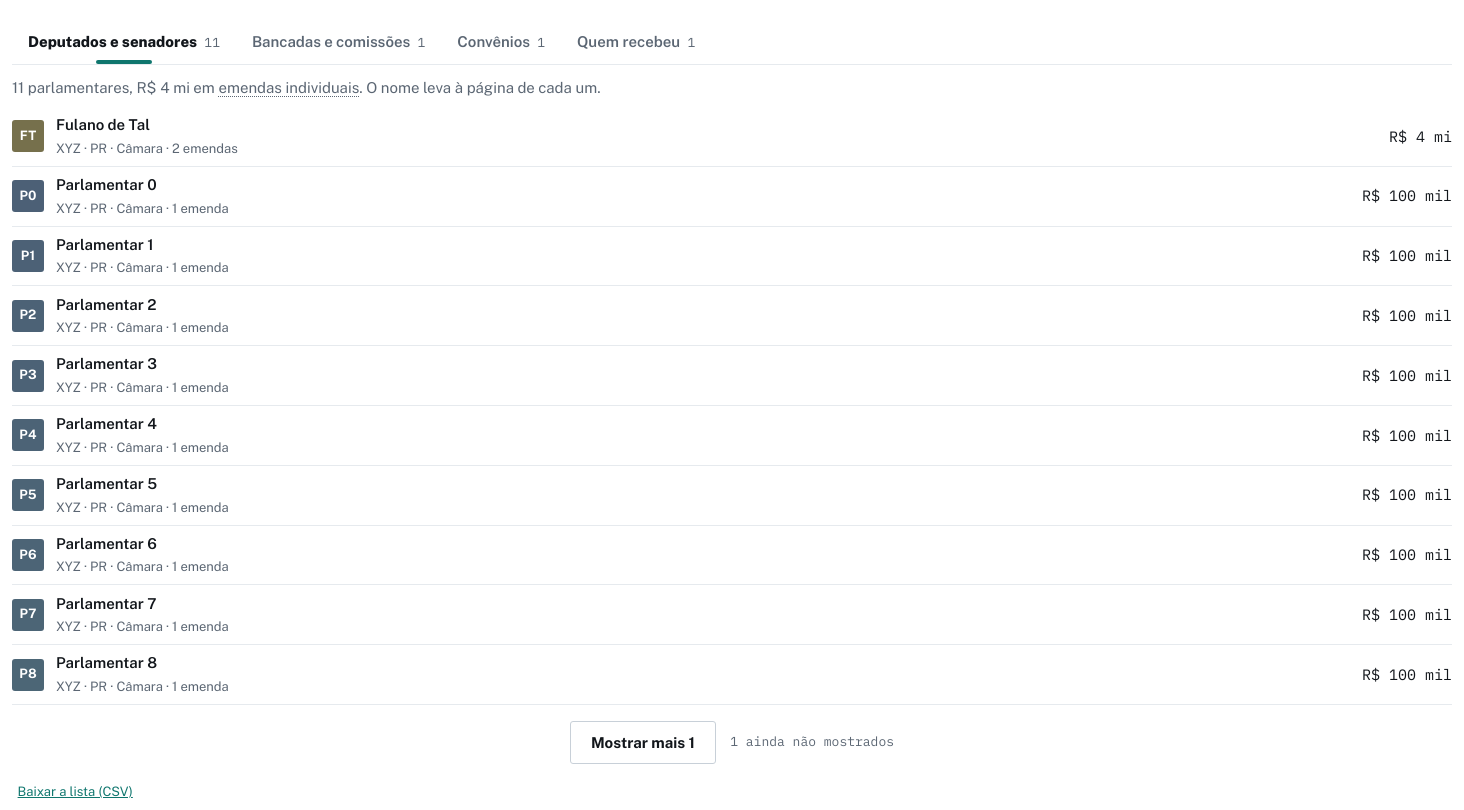
it: Emendas no mapa › separa deputados e senadores das bancadas, e leva ao perfil
The width and height of the screenshot is (1464, 810).
expect the text "Bancada do Parana" is not shown: met
Click the tab "Bancadas e comissões1" at (339, 42), box x1=236 y1=20 x2=441 y2=64
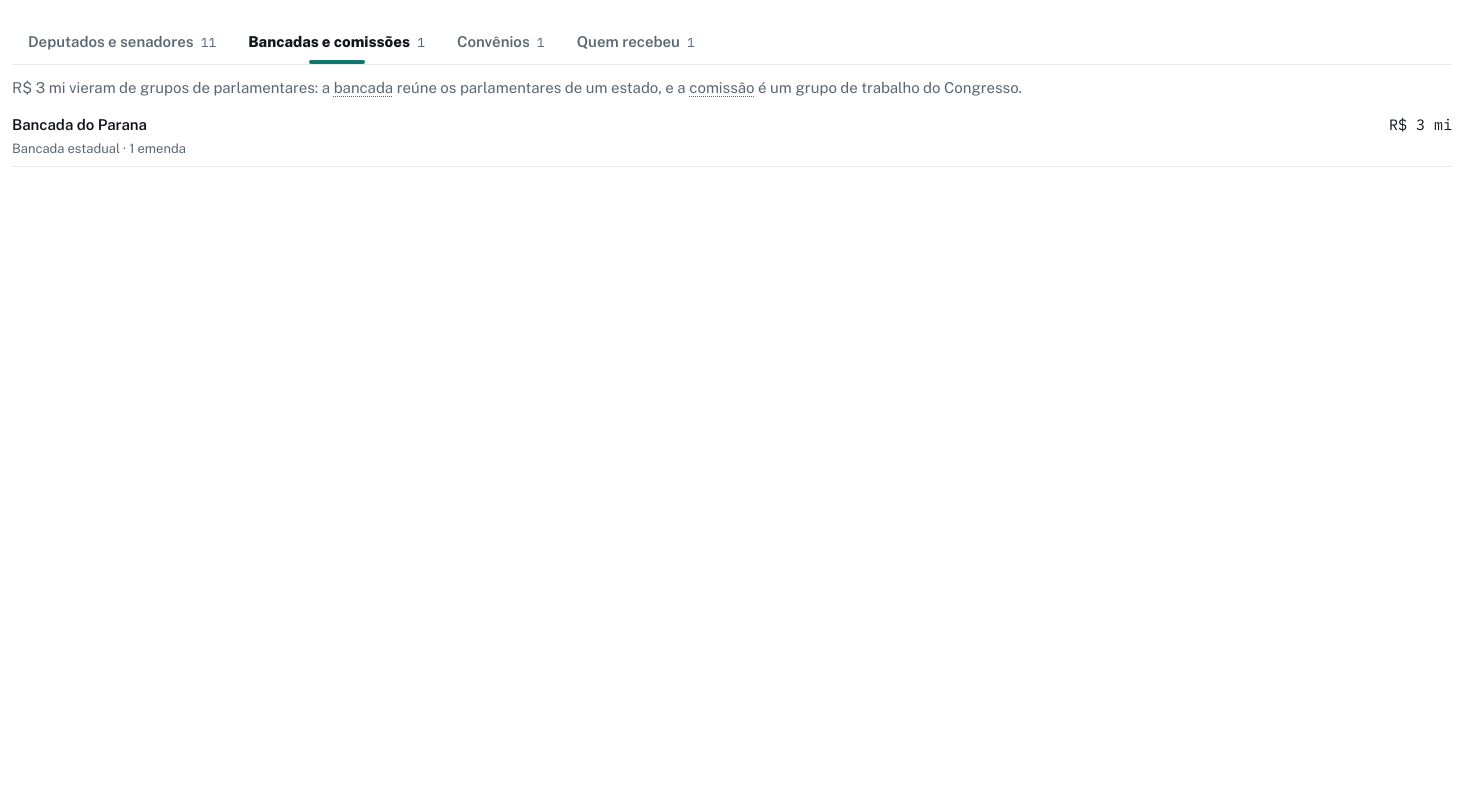
expect the text "Bancada estadual · 1 emenda" is shown: met, box x1=12 y1=141 x2=186 y2=156
